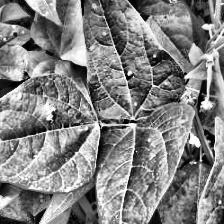Bean Rust: (0, 76, 100, 194), (78, 0, 177, 111), (99, 114, 188, 224), (196, 122, 224, 224), (0, 17, 38, 82)
